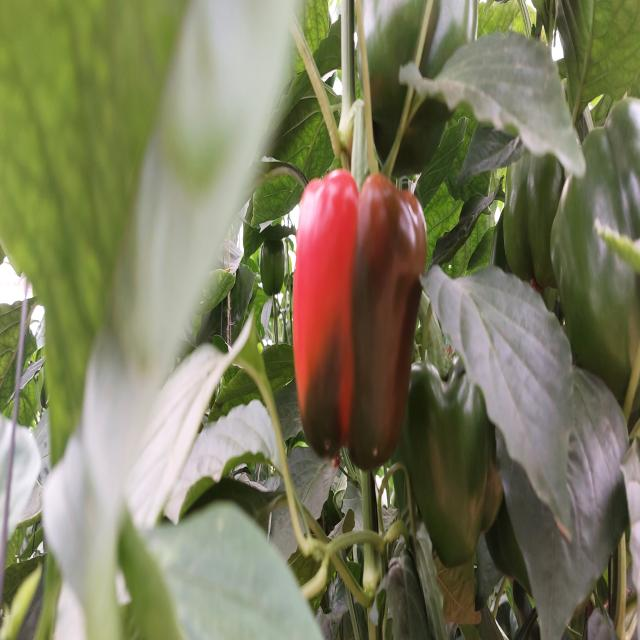Green--Not-ready-to-harvest: (508, 121, 640, 386), (412, 370, 508, 580), (356, 3, 482, 155)
Red-Ready-to-Harvest: (285, 168, 422, 462)
